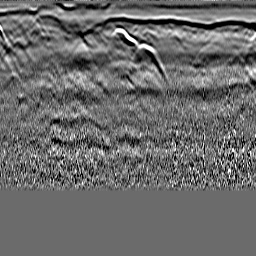cavity: (111, 25, 138, 50)
